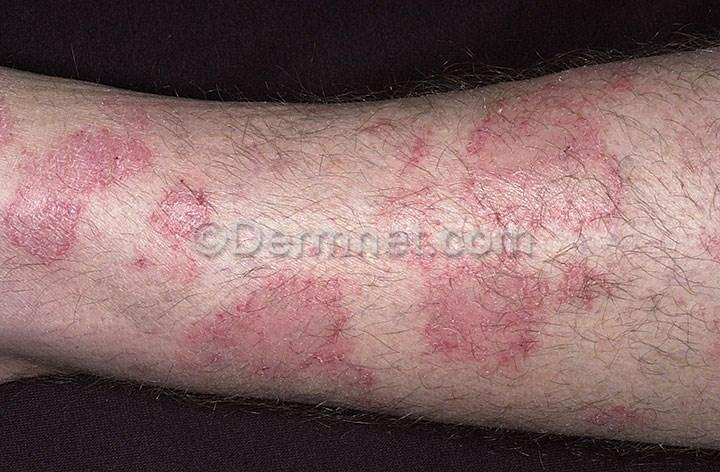Eczema: (399, 63, 627, 375), (0, 78, 219, 287), (164, 244, 405, 413)
